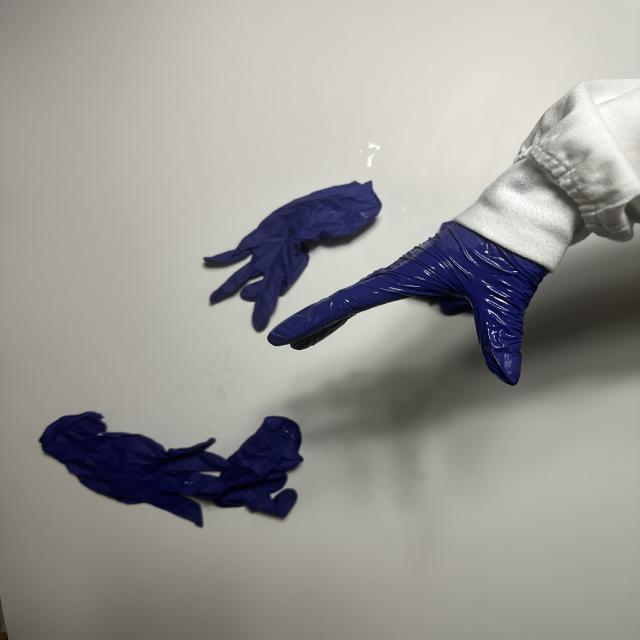gloves_contaminated: (268, 222, 547, 385)
